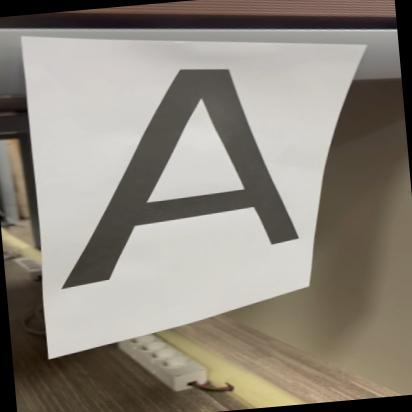seat: (44, 45, 314, 289)
